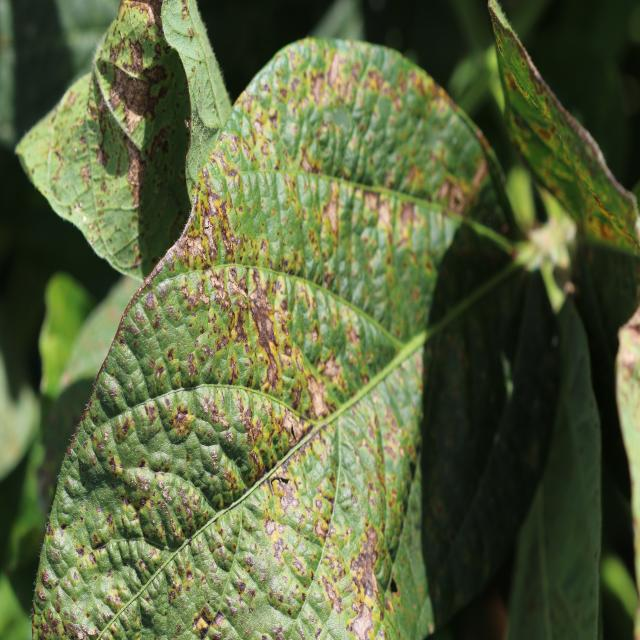Bacterial_Blight: (104, 455, 220, 546), (421, 99, 502, 214), (255, 488, 321, 604), (192, 211, 257, 307), (312, 45, 380, 117), (582, 176, 637, 247), (347, 523, 383, 631), (108, 6, 165, 71), (308, 330, 352, 412), (509, 66, 542, 109), (123, 136, 144, 196), (192, 602, 227, 638), (321, 186, 341, 240), (148, 126, 171, 164), (276, 482, 301, 516), (375, 196, 394, 237), (186, 234, 208, 266), (310, 72, 326, 105), (621, 350, 639, 379), (186, 353, 199, 379), (95, 142, 108, 168), (144, 290, 158, 312), (79, 162, 92, 185), (73, 624, 88, 639), (108, 455, 120, 473), (175, 410, 188, 426), (495, 36, 503, 54), (75, 202, 84, 215), (167, 348, 175, 362), (315, 499, 323, 509), (191, 65, 196, 73)
Soybean: (33, 40, 558, 640)
